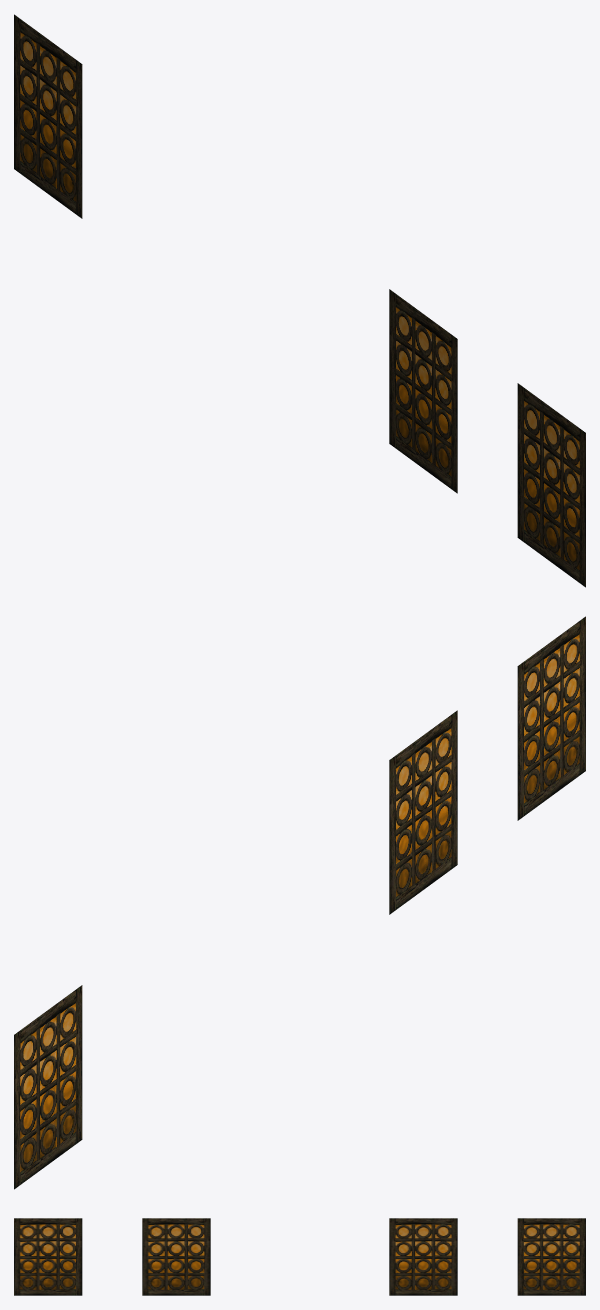
The model's file is LAKETOWN_EXTERIOR_PS_LT_WINDOWS_73736.fbx.
3 views of the same model, one above another, from view 1: azimuth 30°, elevation 25°; view 2: azimuth 150°, elevation 25°; view 3: azimuth 270°, elevation 25° (orthographic). The views are drawn at different scales.
Parts seen in each view (by area): view 1: LAKETOWN_EXTERIOR_PS_LT_WINDOWS_73736; view 2: LAKETOWN_EXTERIOR_PS_LT_WINDOWS_73736; view 3: LAKETOWN_EXTERIOR_PS_LT_WINDOWS_73736.
Part boxes in pixels (left/top/right/bottom): LAKETOWN_EXTERIOR_PS_LT_WINDOWS_73736: left=14, top=14, right=585, bottom=587; LAKETOWN_EXTERIOR_PS_LT_WINDOWS_73736: left=14, top=616, right=585, bottom=1189; LAKETOWN_EXTERIOR_PS_LT_WINDOWS_73736: left=14, top=1218, right=585, bottom=1295.
Size of the model in its own units: 0.0244 by 14646 by 98078.
Materials: 1 (1 with a texture image).
